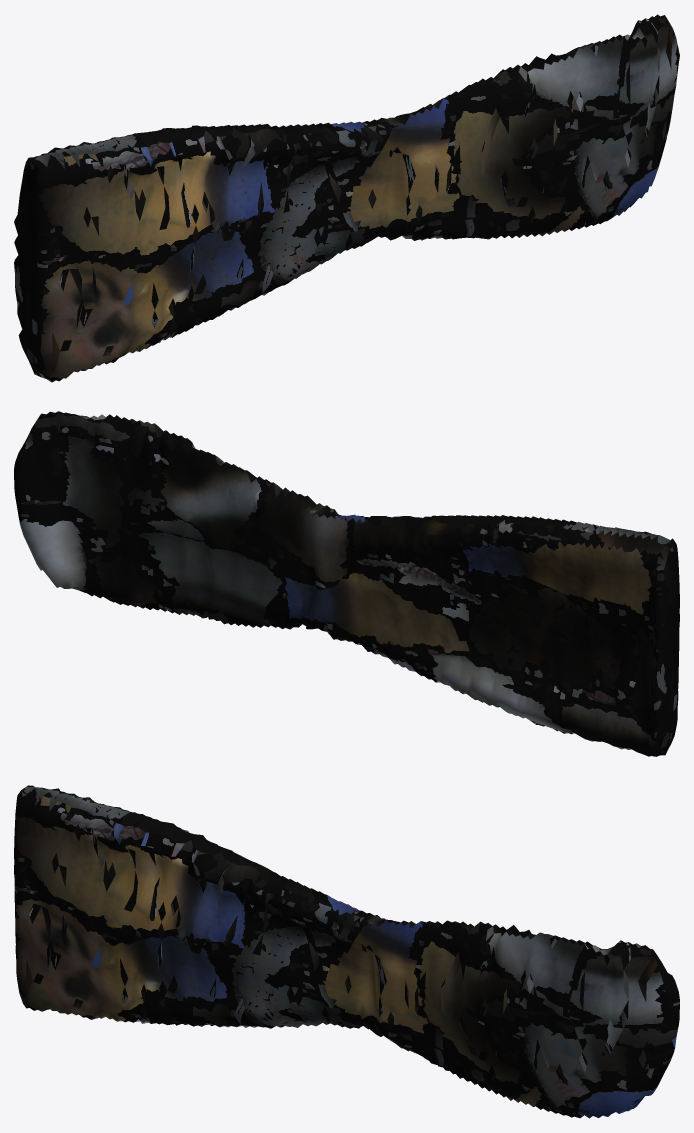
File: final_mesh_cutlery-knife_1.obj
The picture shows the model from 3 angles, top to bottom: view 1: azimuth 30°, elevation 25°; view 2: azimuth 150°, elevation 25°; view 3: azimuth 330°, elevation 25°; orthographic projection. The views are drawn at different scales.
Size of the model in its own units: 0.2305 by 0.0748 by 0.0206.
